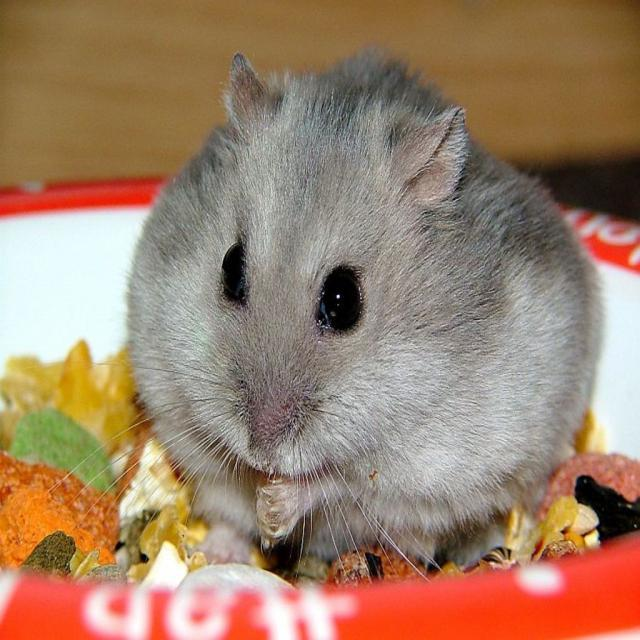rat: (123, 53, 606, 568)
